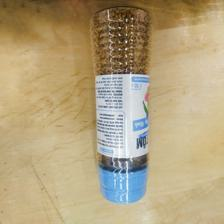TayNinh_blue: (87, 7, 154, 205)
